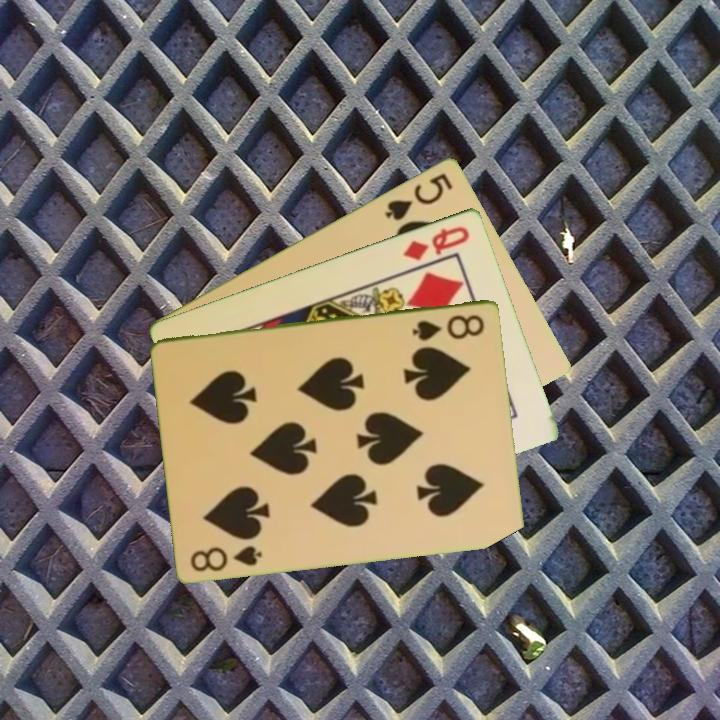5s: (381, 169, 456, 223)
8s: (409, 310, 488, 344), (187, 541, 266, 574)
Qd: (400, 222, 473, 263)
